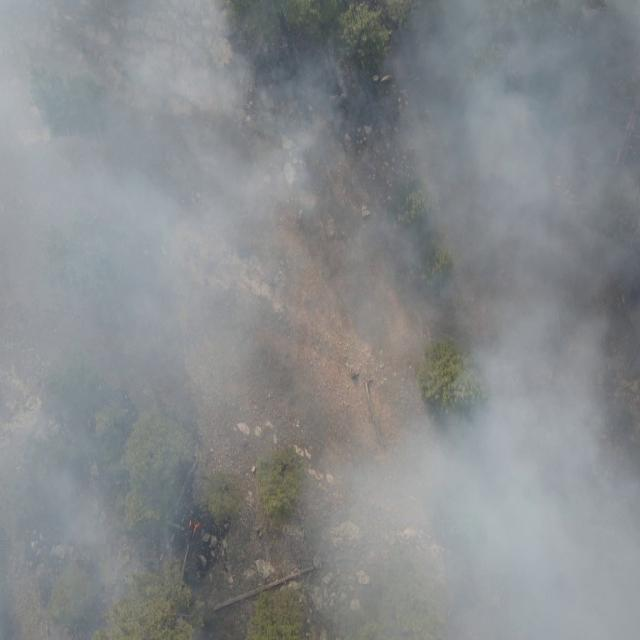fire: (184, 518, 203, 538)
smoke: (0, 0, 640, 640)
